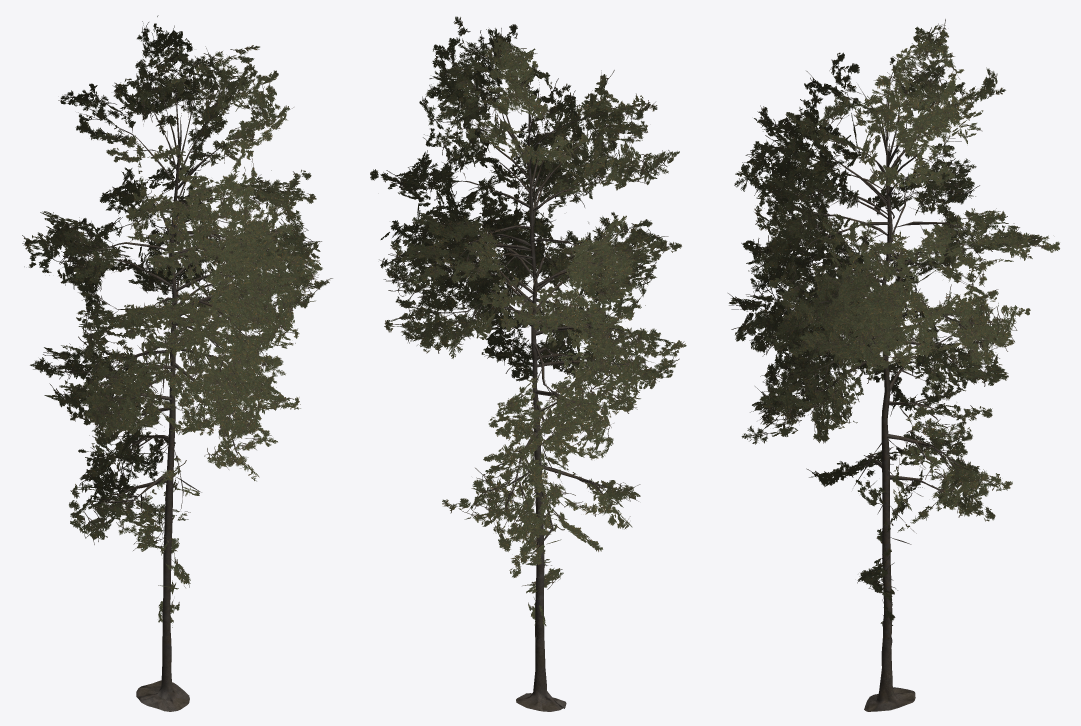
3 renders of one model, left to right at view 1: azimuth 30°, elevation 25°; view 2: azimuth 150°, elevation 25°; view 3: azimuth 270°, elevation 25°, orthographic. The views are drawn at different scales.
Visible parts, largest first — view 1: pine_tree_01__c_lod1; view 2: pine_tree_01__c_lod1; view 3: pine_tree_01__c_lod1.
Boxes of the visible parts, x1,y1,x2,y2 form: pine_tree_01__c_lod1: [22, 15, 332, 711]; pine_tree_01__c_lod1: [370, 16, 686, 711]; pine_tree_01__c_lod1: [728, 19, 1059, 711].
Size of the model in its own units: 7.83 by 17.66 by 8.03.
Materials: 2 (2 with a texture image).
